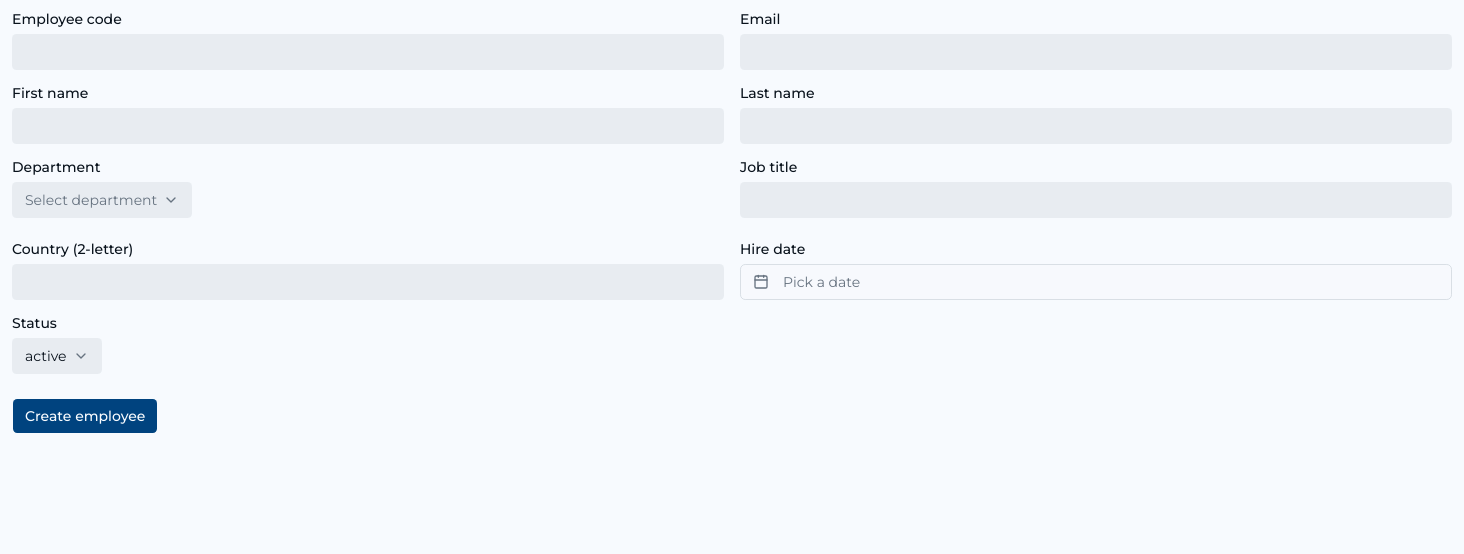
Test case: EmployeeForm — create mode › shows required validation errors on empty submit
Click the button "Create employee" at (85, 416), box 12,398 -> 158,434
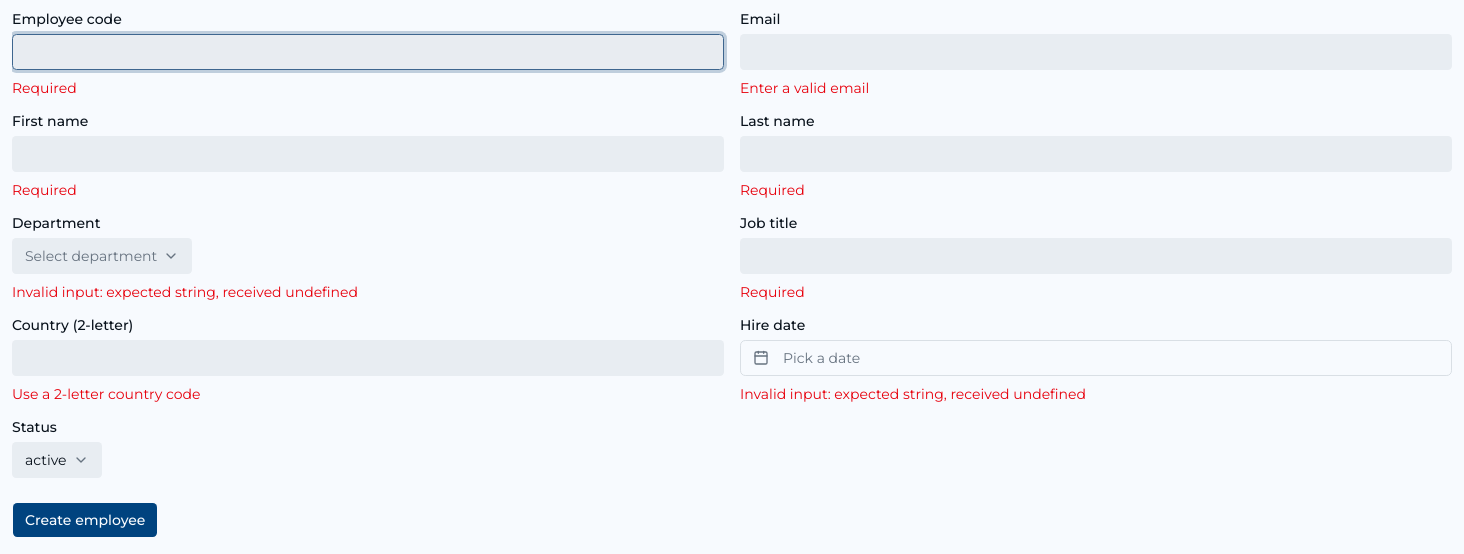
Expected: the text "Required" below "Employee code" is shown, 12,79 -> 77,97
